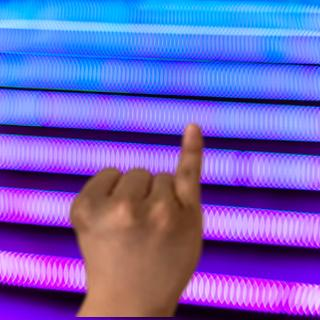FINE: (60, 118, 212, 297)
